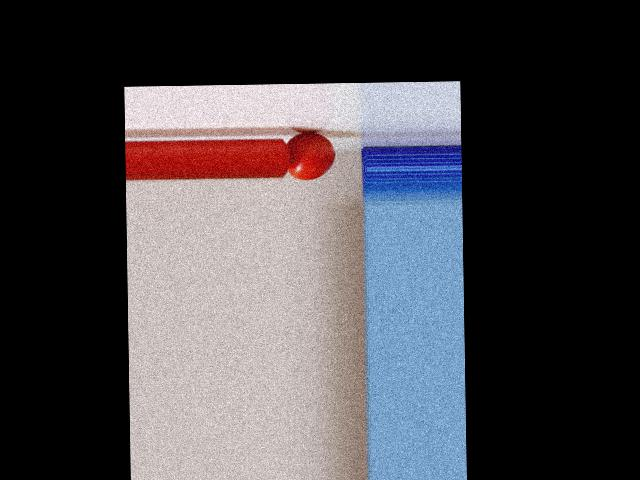tomato: (287, 131, 335, 180)
